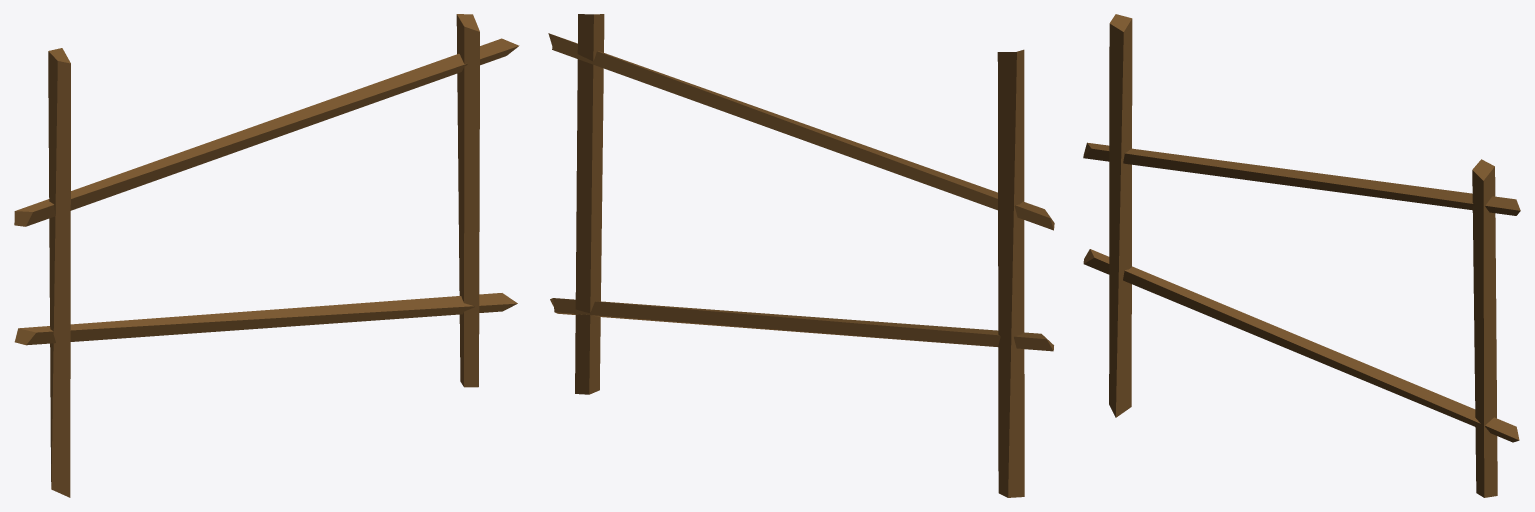
Rendered from Wooden_FencesUp1.fbx.
The picture shows the model from 3 angles, left to right: view 1: azimuth 30°, elevation 25°; view 2: azimuth 150°, elevation 25°; view 3: azimuth 330°, elevation 25°; orthographic projection. The views are drawn at different scales.
Visible parts, largest first — view 1: Wooden_FencesUp1; view 2: Wooden_FencesUp1; view 3: Wooden_FencesUp1.
Boxes of the visible parts, left/top/right/bottom form: Wooden_FencesUp1: left=14, top=14, right=519, bottom=497; Wooden_FencesUp1: left=548, top=14, right=1054, bottom=497; Wooden_FencesUp1: left=1083, top=14, right=1520, bottom=497.
Bounding box in the file's own units: 794 × 674 × 38.29.
